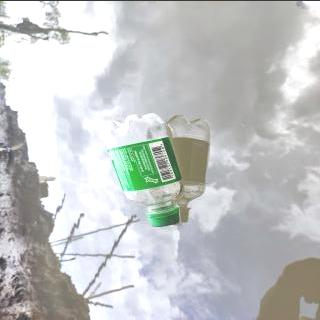bottle: (100, 110, 184, 228)
